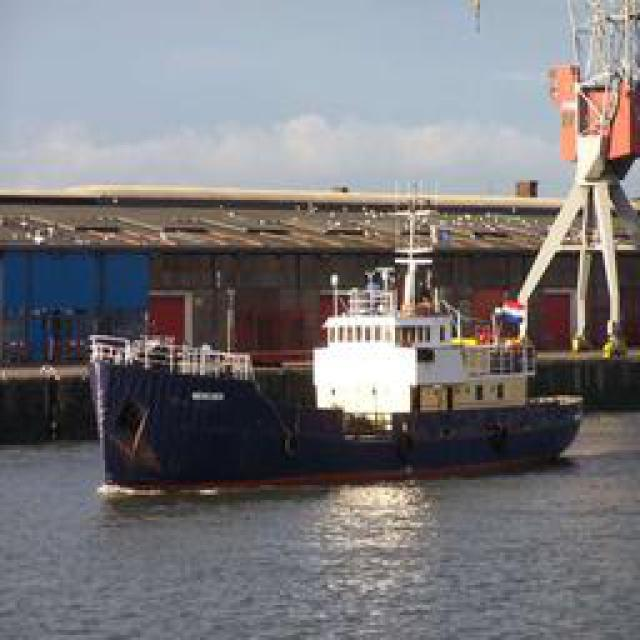Ship: (54, 177, 584, 487)
